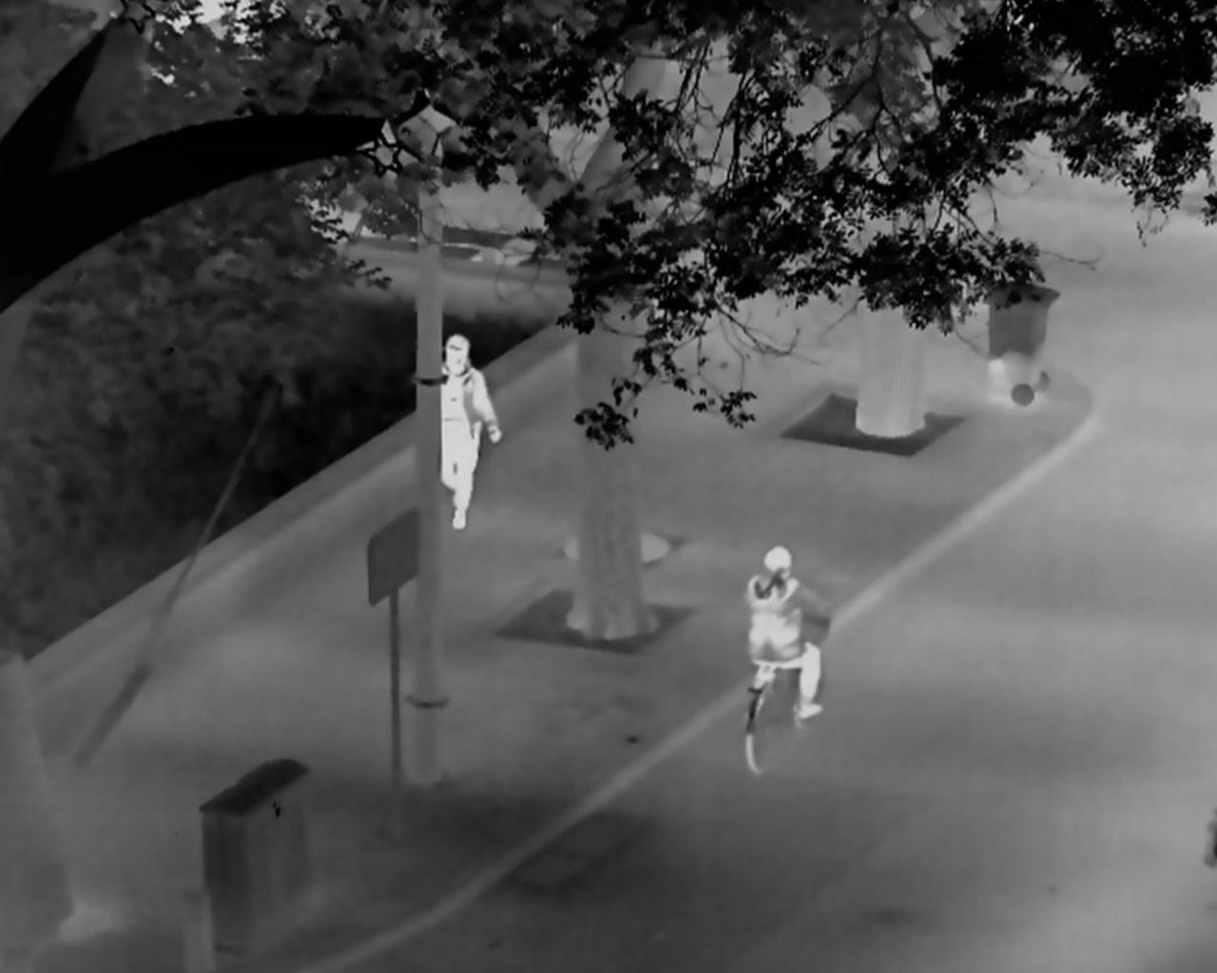person: (744, 546, 822, 722), (441, 334, 504, 529)
